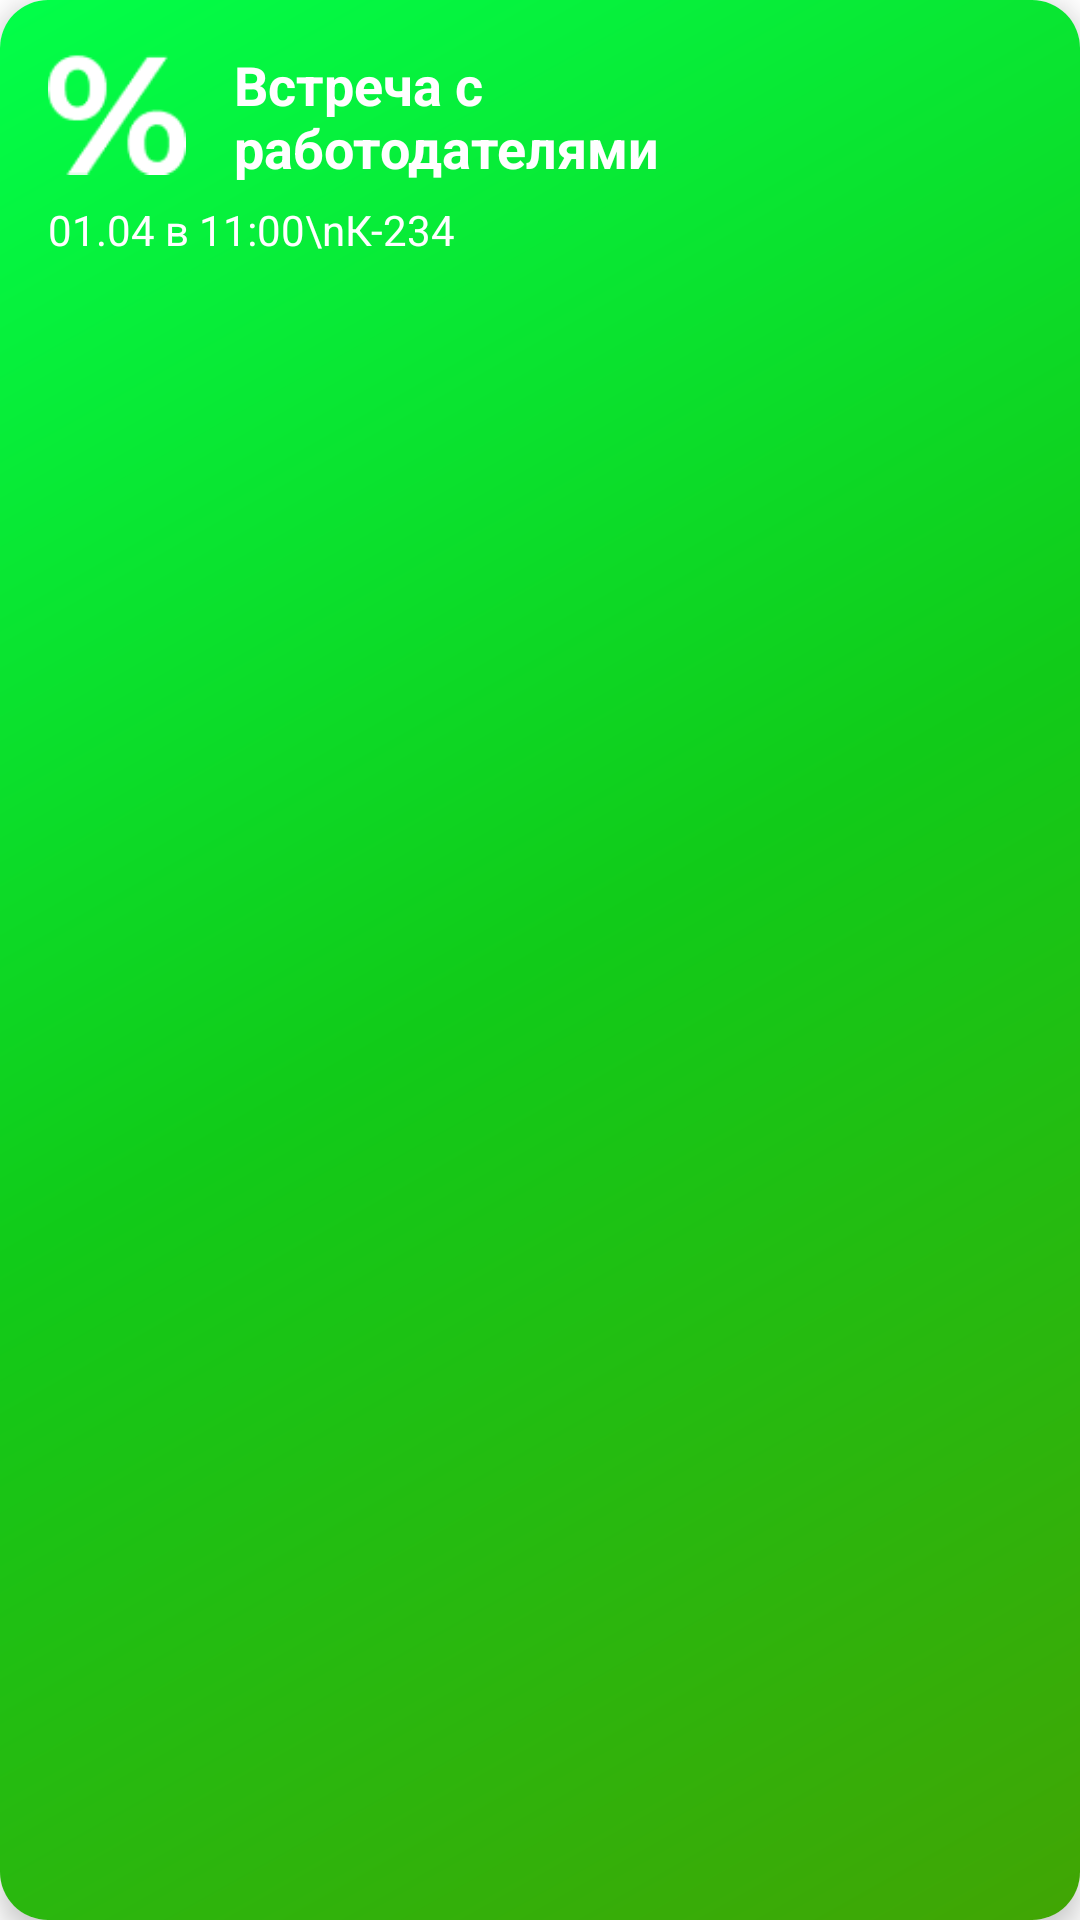

Screen size 1080w x 1920h. Icon name, then its box in pixels as rect(x1, y1, x2, y2):
imgpercent: rect(48, 55, 186, 175)
